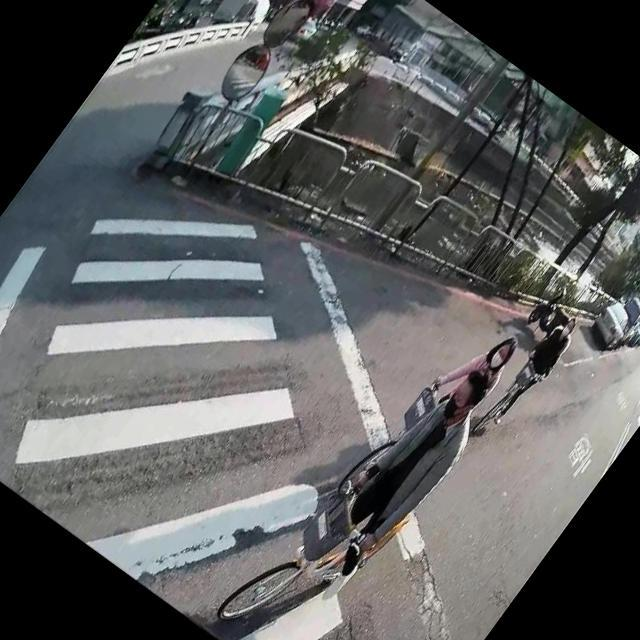person: (284, 342, 516, 621), (478, 302, 588, 434), (422, 310, 526, 426)
